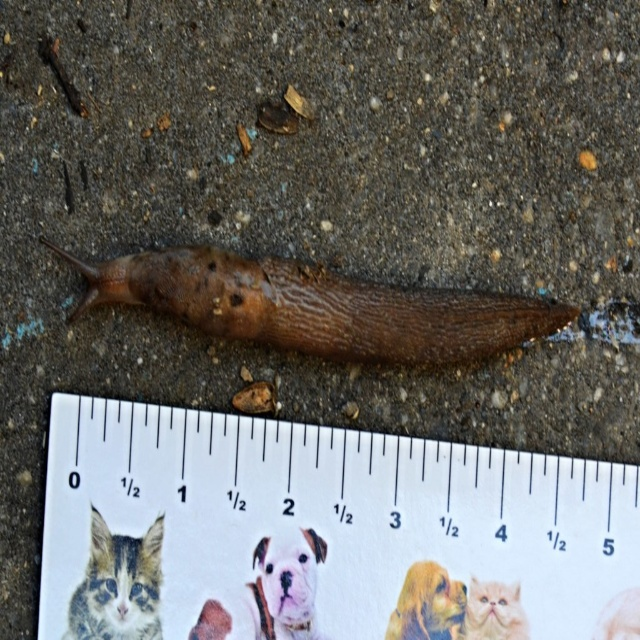Snail: (36, 230, 582, 368)
